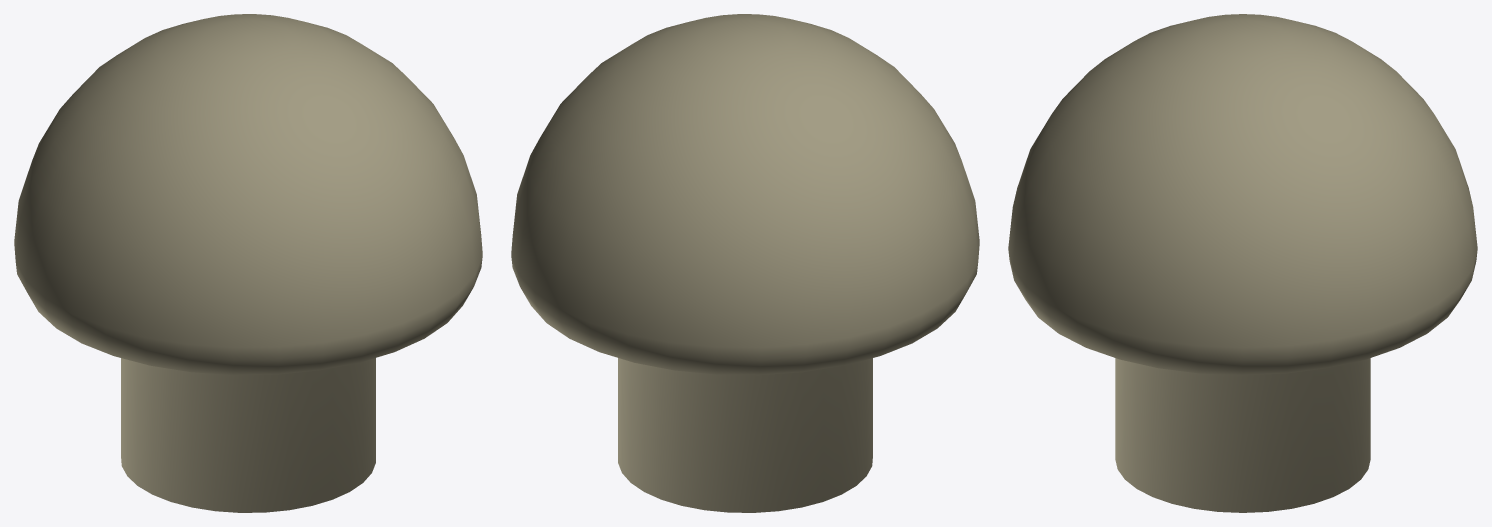
The model's file is mantar tam.fbx.
3 renders of one model, left to right at view 1: azimuth 30°, elevation 25°; view 2: azimuth 150°, elevation 25°; view 3: azimuth 270°, elevation 25°, orthographic.
Visible parts, largest first — view 1: Sphere.008; view 2: Sphere.008; view 3: Sphere.008.
Boxes of the visible parts, <box> form: Sphere.008: <box>14,14,482,512</box>; Sphere.008: <box>511,14,979,512</box>; Sphere.008: <box>1008,14,1477,512</box>.
Bounding box in the file's own units: 335 × 333 × 335.
